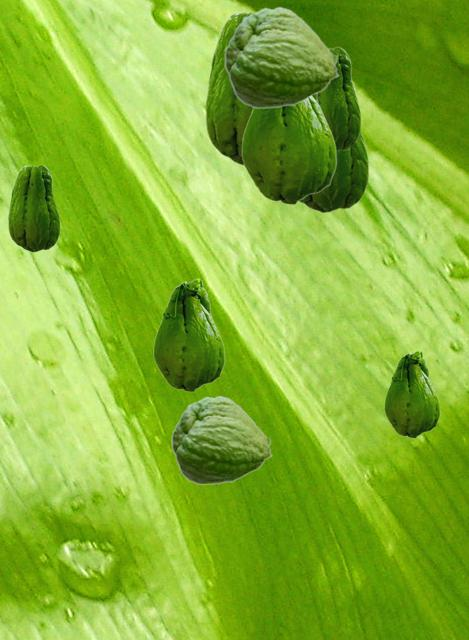sayote: (224, 6, 339, 108), (241, 94, 336, 204), (298, 81, 368, 212), (171, 395, 272, 484), (153, 278, 224, 391), (205, 10, 255, 167), (384, 350, 439, 437), (8, 164, 59, 251), (318, 46, 360, 151)
